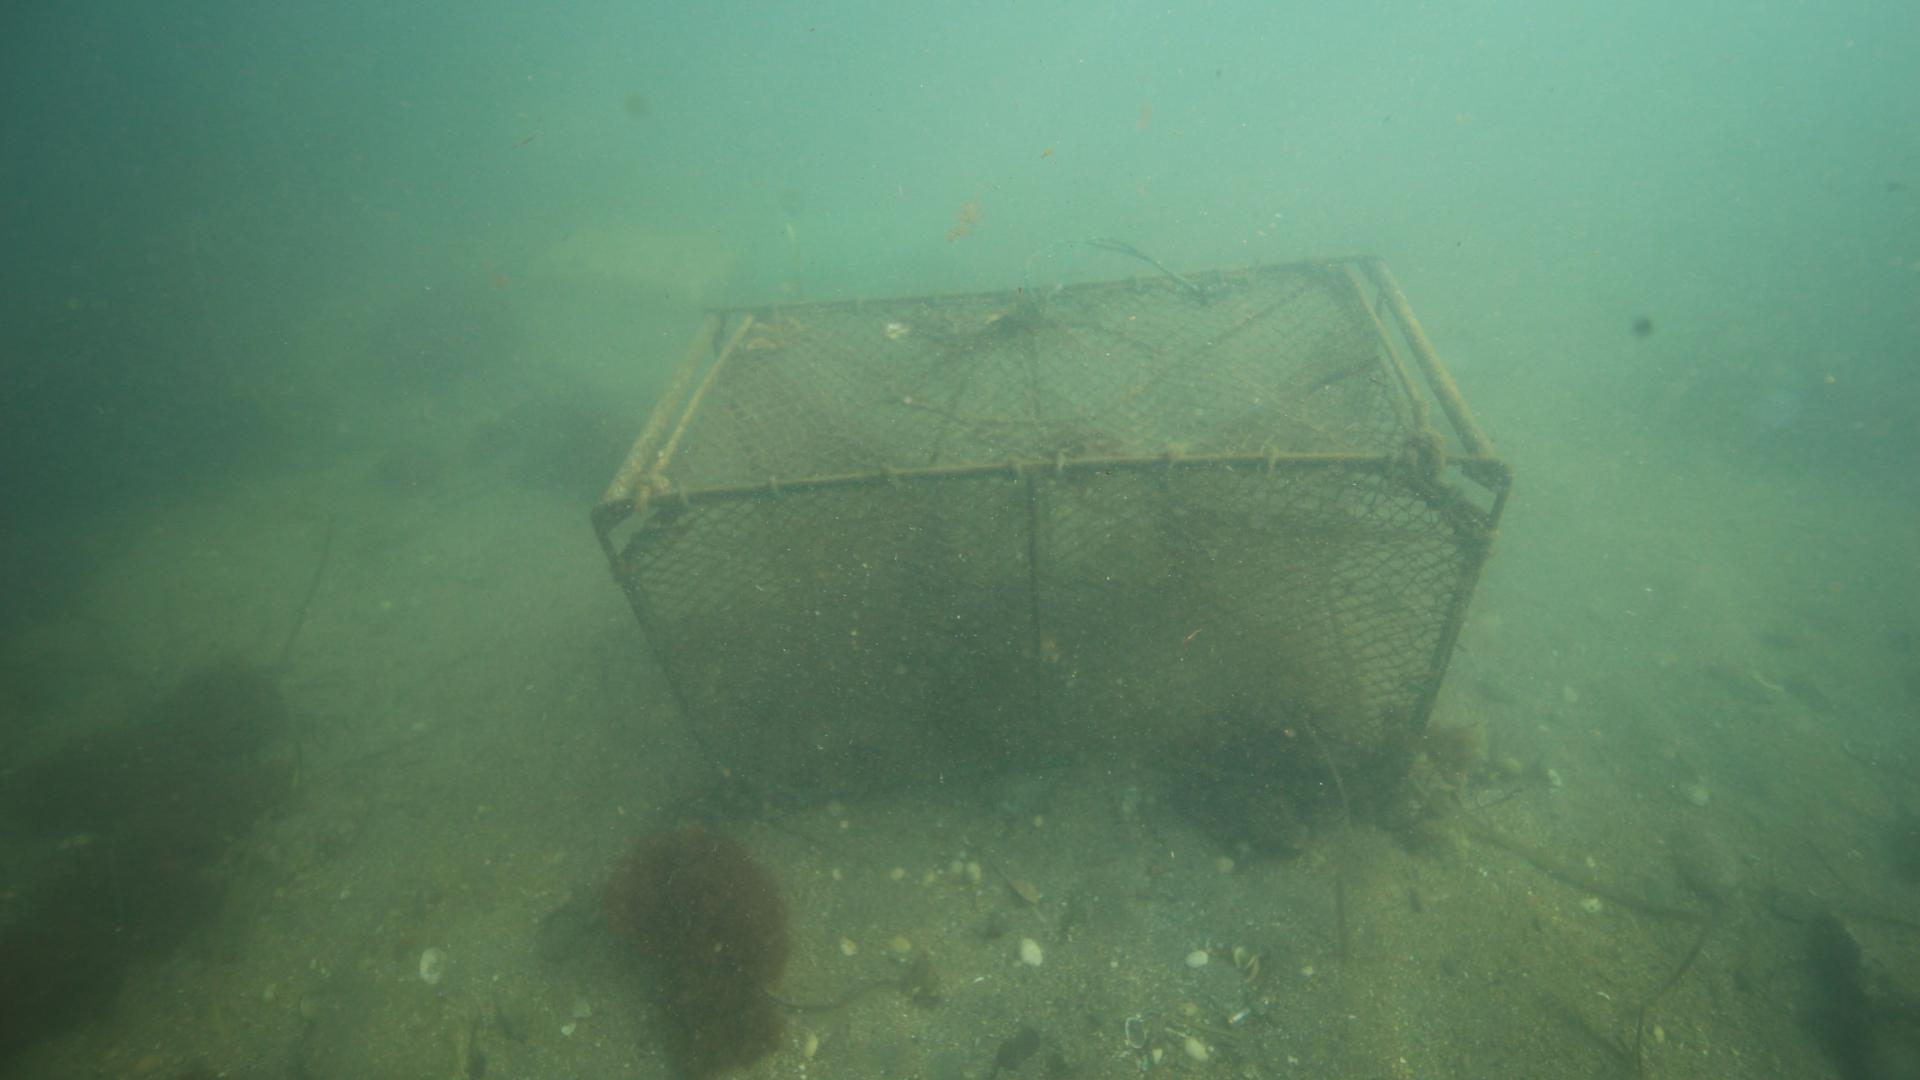rectangular fish trap: (591, 248, 1515, 804)
